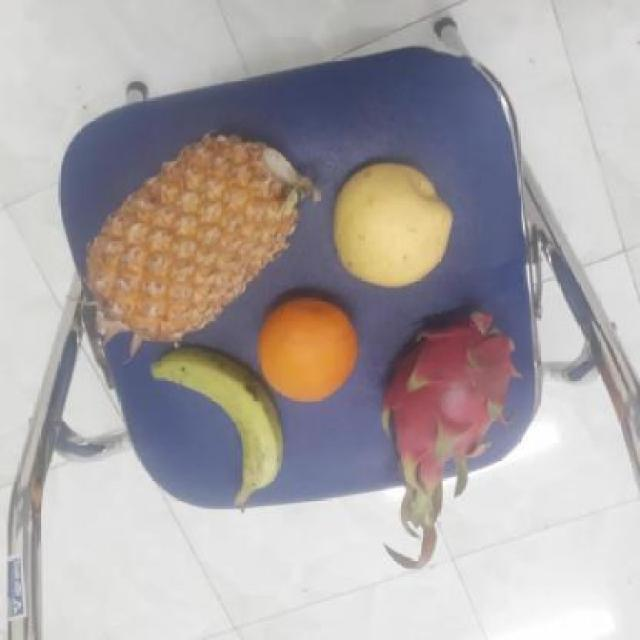banana: (129, 341, 285, 505)
dragon fruit: (374, 306, 518, 477)
oren: (250, 295, 361, 400)
pear: (330, 158, 450, 292)
pineapple: (81, 135, 308, 340)
